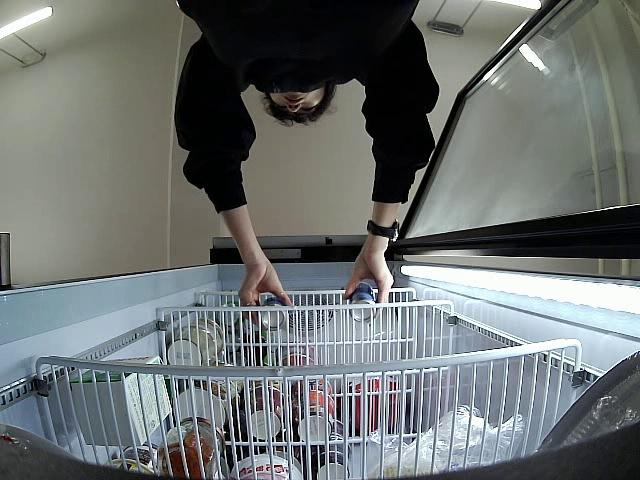00_hand: (238, 260, 292, 325), (344, 254, 394, 319)
15_letsbe: (349, 284, 377, 324), (261, 296, 288, 331)
